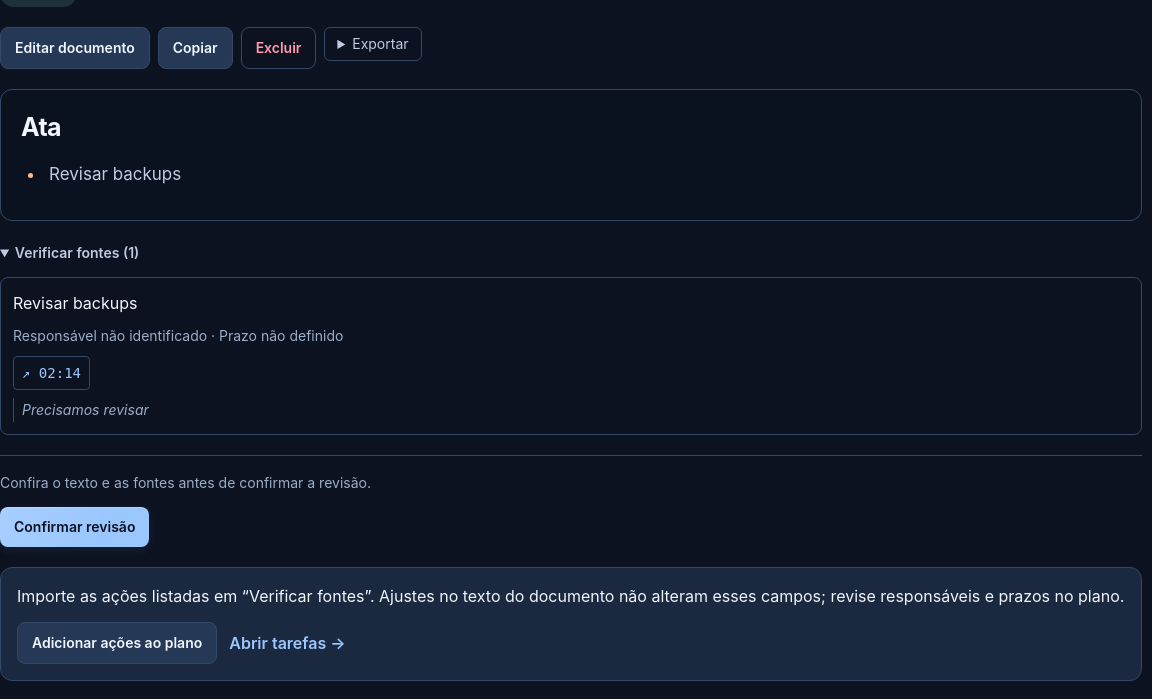
Test: imports reviewed actions once, reports existing actions and preserves a retry after failure
Click the button "Adicionar ações ao plano".
click(117, 643)  # box [17,622,217,664]
(page scrolled)
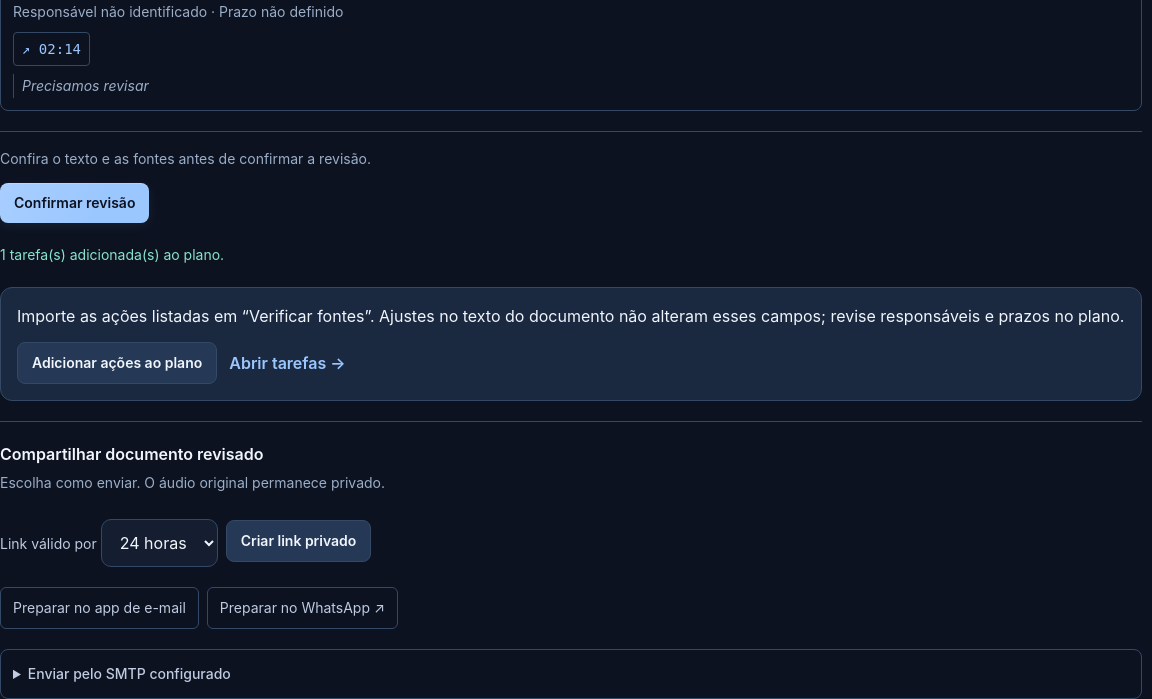
Now the message shows "1 tarefa(s)", box [0,246,224,263]
Click the button "Adicionar ações ao plano".
click(117, 363)  # box [17,342,217,384]
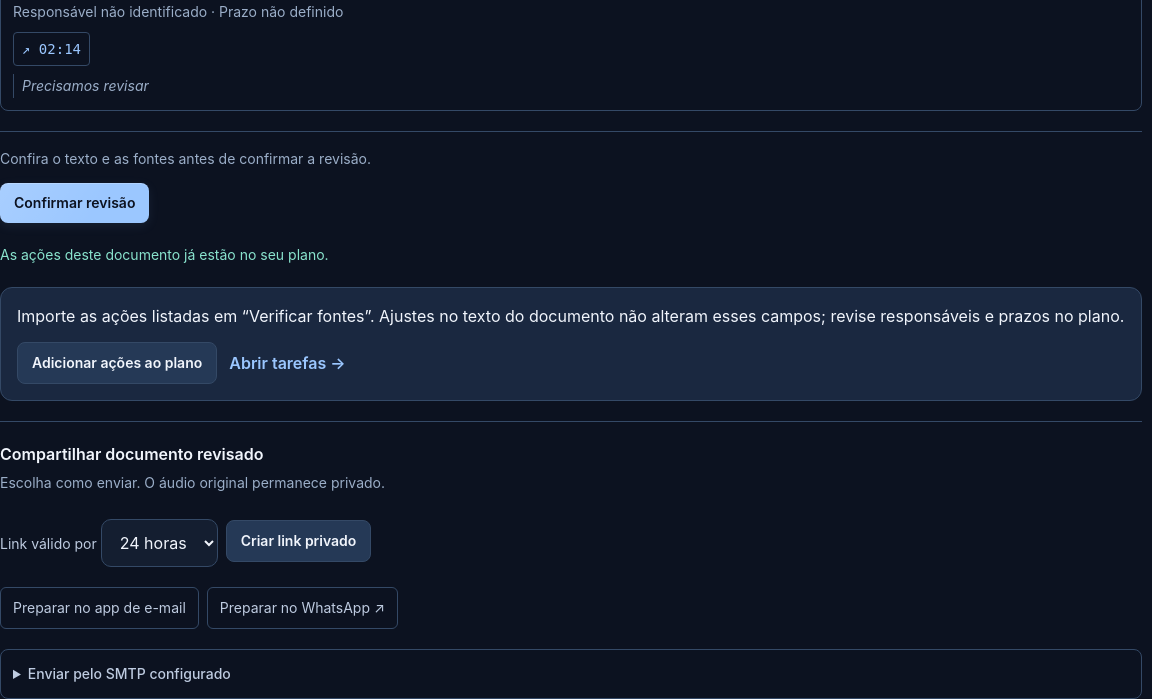
Now the message shows "já estão no seu plano", box [0,246,329,263]
Click the button "Adicionar ações ao plano".
click(117, 363)  # box [17,342,217,384]
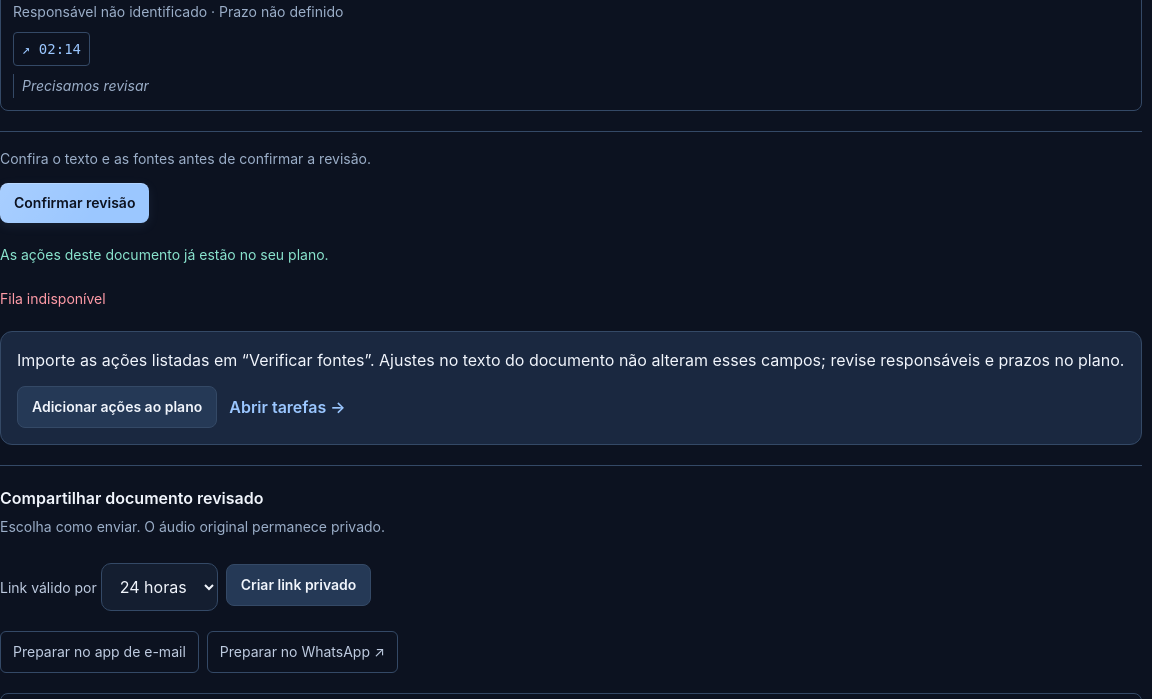
Expected: the button "Adicionar ações ao plano" is enabled, [17,386,217,428]
Now the message "Fila indisponível" is shown, box [0,290,106,307]
